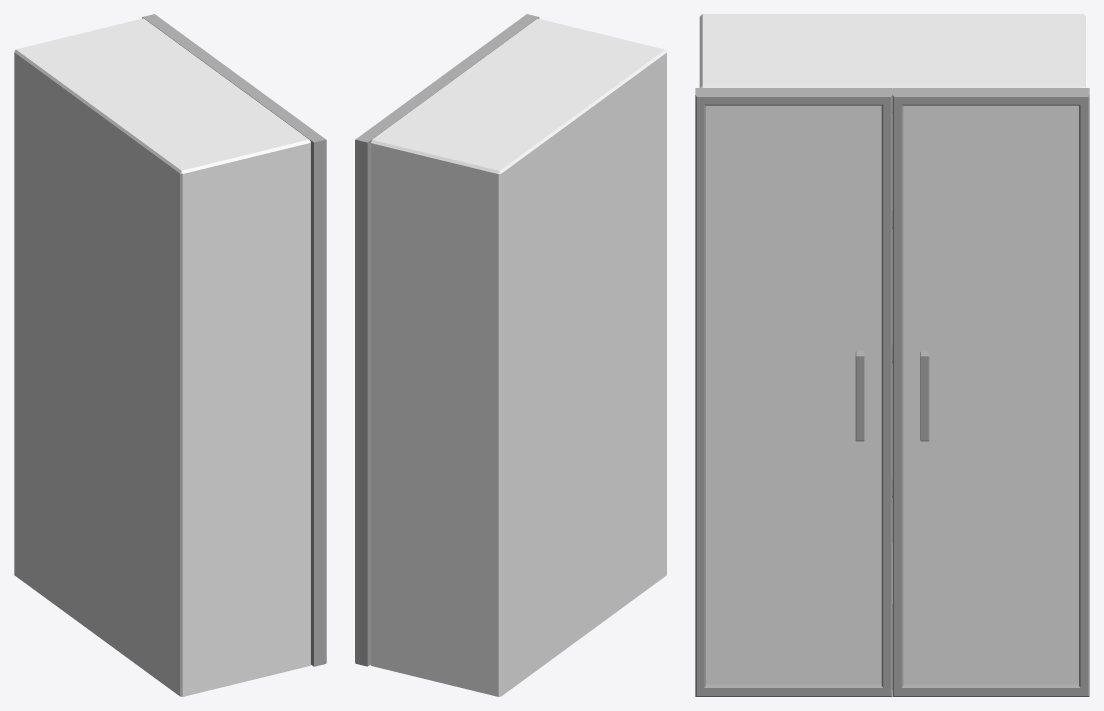
Rendered from Closet.fbx.
3 renders of one model, left to right at view 1: azimuth 30°, elevation 25°; view 2: azimuth 150°, elevation 25°; view 3: azimuth 270°, elevation 25°, orthographic. The views are drawn at different scales.
Visible parts, largest first — view 1: Base, Door_left, Door_right; view 2: Base, Door_right, Door_left; view 3: Door_left, Door_right, Base.
Boxes of the visible parts, x1,y1,x2,y2 form: Base: [14, 18, 310, 696]; Door_left: [228, 77, 326, 666]; Door_right: [142, 14, 240, 79]; Base: [370, 18, 666, 696]; Door_right: [355, 77, 452, 666]; Door_left: [441, 14, 539, 79]; Door_left: [695, 88, 892, 696]; Door_right: [892, 88, 1089, 696]; Base: [699, 14, 1085, 689].
Bounding box in the file's own units: 310 × 1052 × 623.
